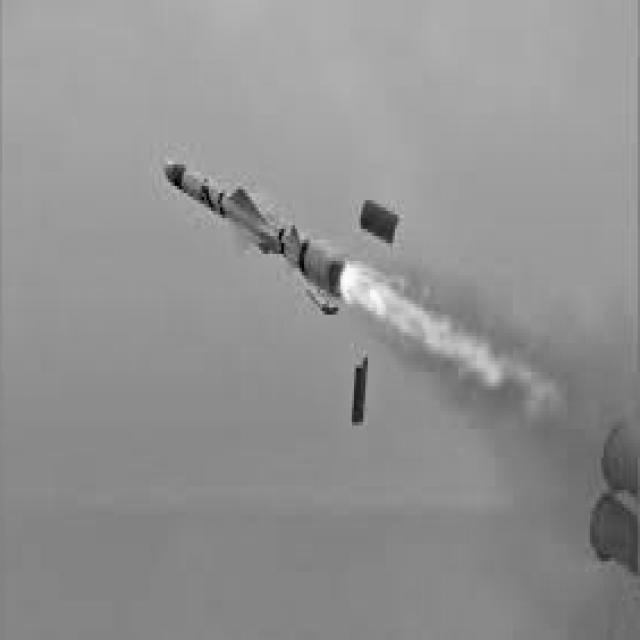Missile: (149, 144, 370, 318)
